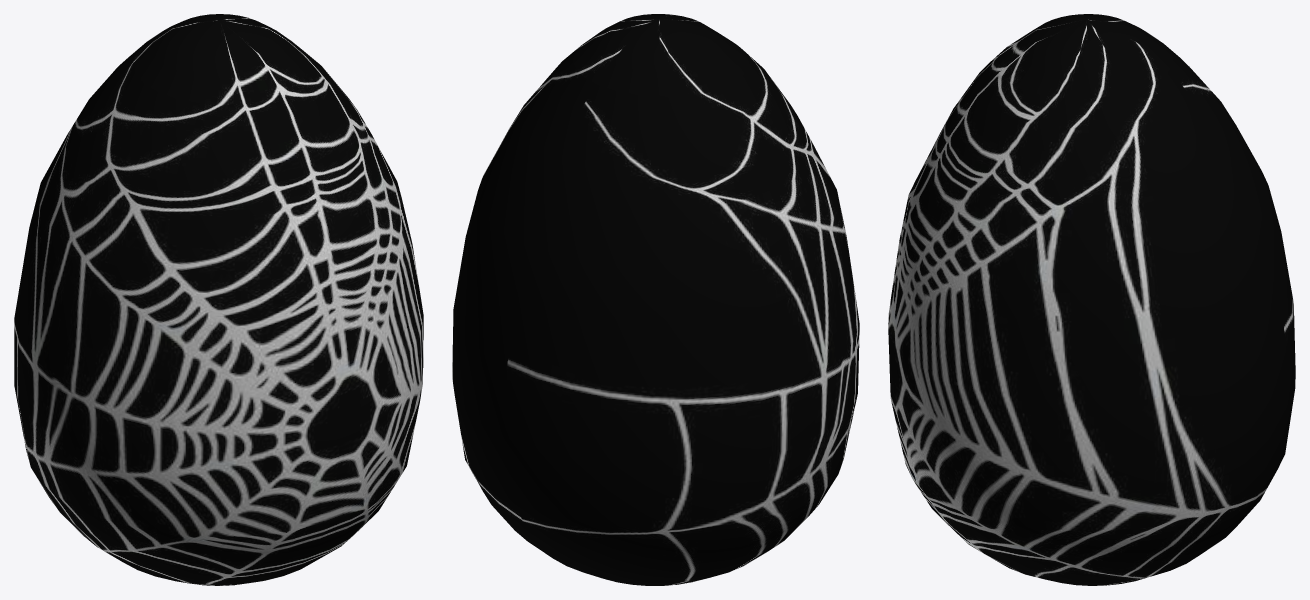
The model's file is Spideregg.fbx.
3 renders of one model, left to right at view 1: azimuth 30°, elevation 25°; view 2: azimuth 150°, elevation 25°; view 3: azimuth 270°, elevation 25°, orthographic.
Parts seen in each view (by area): view 1: Spideregg; view 2: Spideregg; view 3: Spideregg.
Boxes of the visible parts, x1=… form: Spideregg: x1=14, y1=14, x2=423, y2=585; Spideregg: x1=452, y1=14, x2=859, y2=585; Spideregg: x1=888, y1=14, x2=1295, y2=585.
Size of the model in its own units: 158 by 234 by 158.
1 material, 1 textured.
